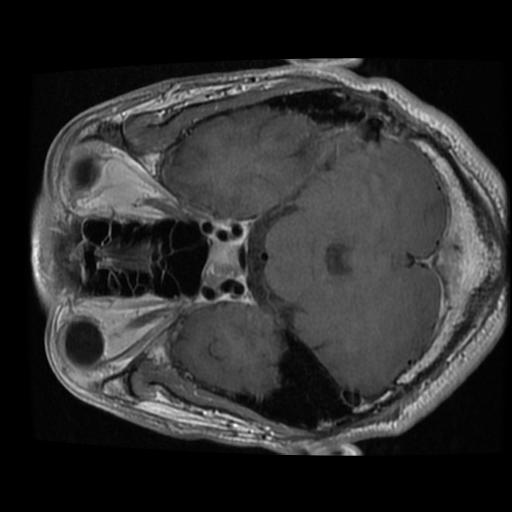pituitary tumour: (202, 237, 240, 288)
